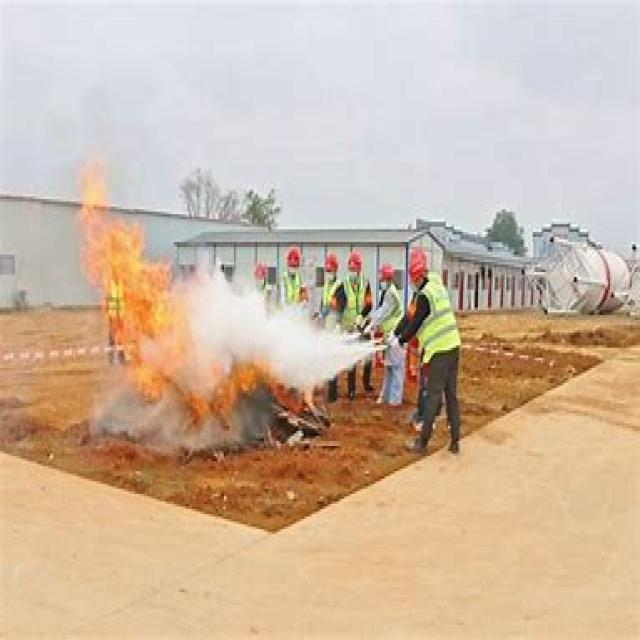fire: (78, 164, 177, 383), (133, 340, 319, 431)
